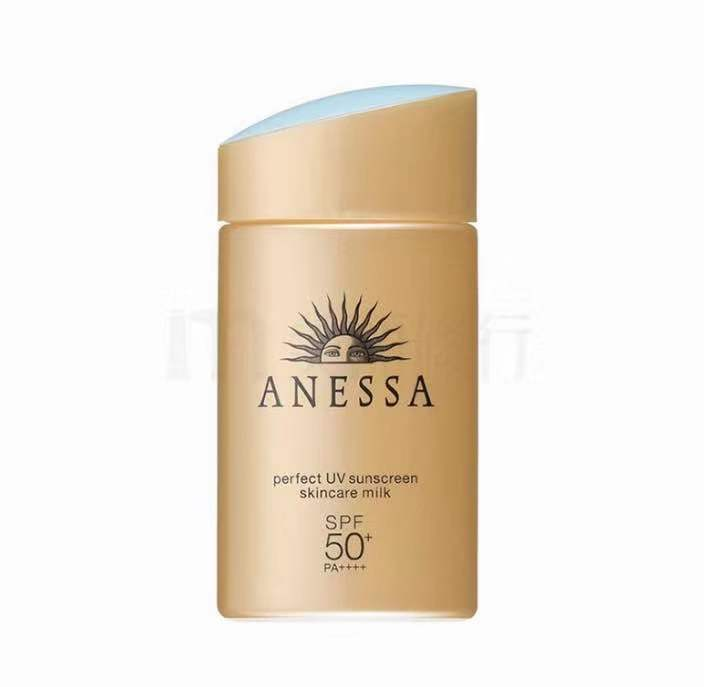cosmetic: (220, 84, 480, 612)
